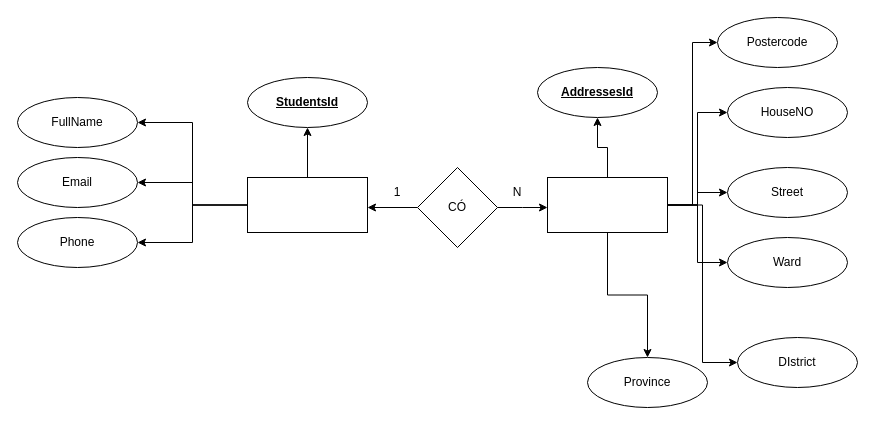
Some shapes in this 875 by 425 pixel diagram are drawn without their labels. The shapes that lost their labels are listed below. From the top down, each one's centre as x and y in pixels, then its label:
At point 307,204: "STUDENTS".
At point 607,204: "ADDRESSES".
